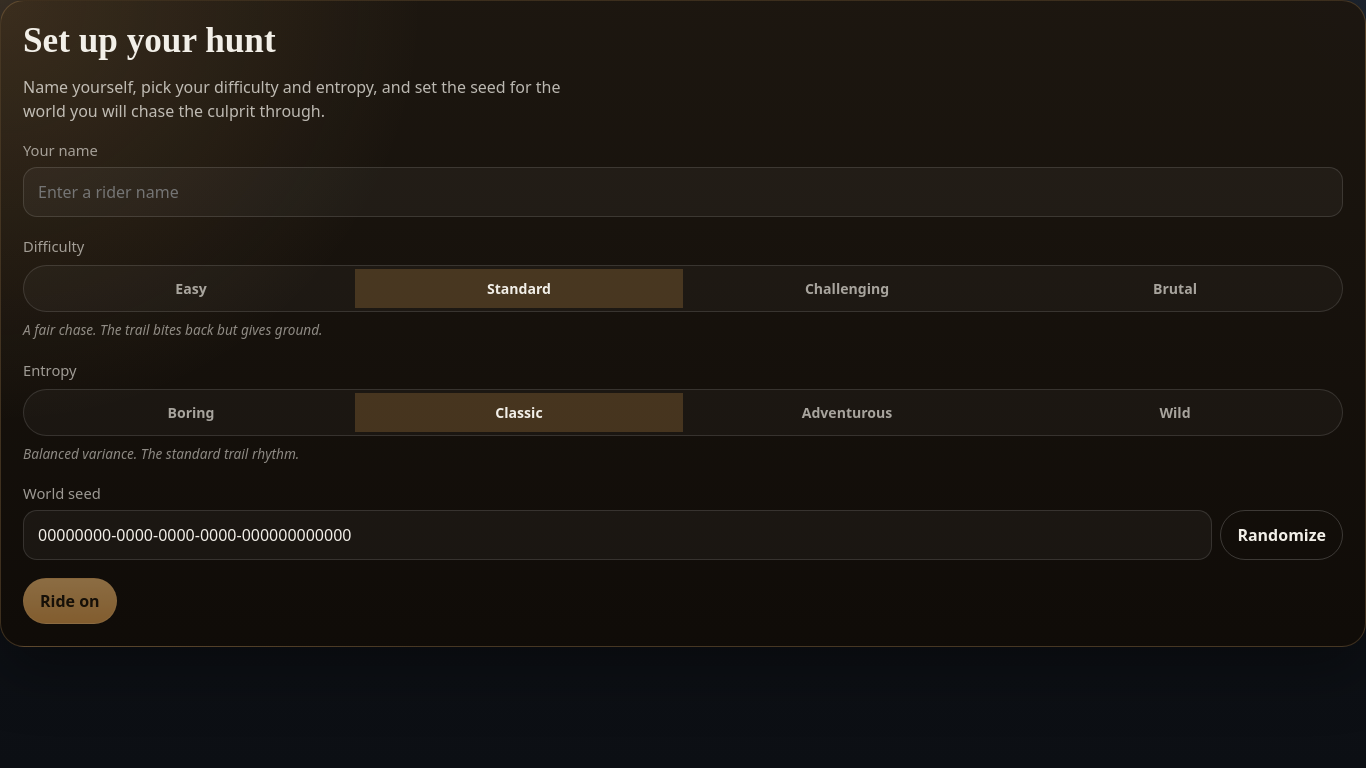
it: SetupHuntStep › shows the validation message when the name is empty after being touched
Expected: the text "tell me what name you go by before we ride on." is not shown
Type "Ranger Vale" into the field labelled "Your name" at (683, 192), box [23,167,1343,217]
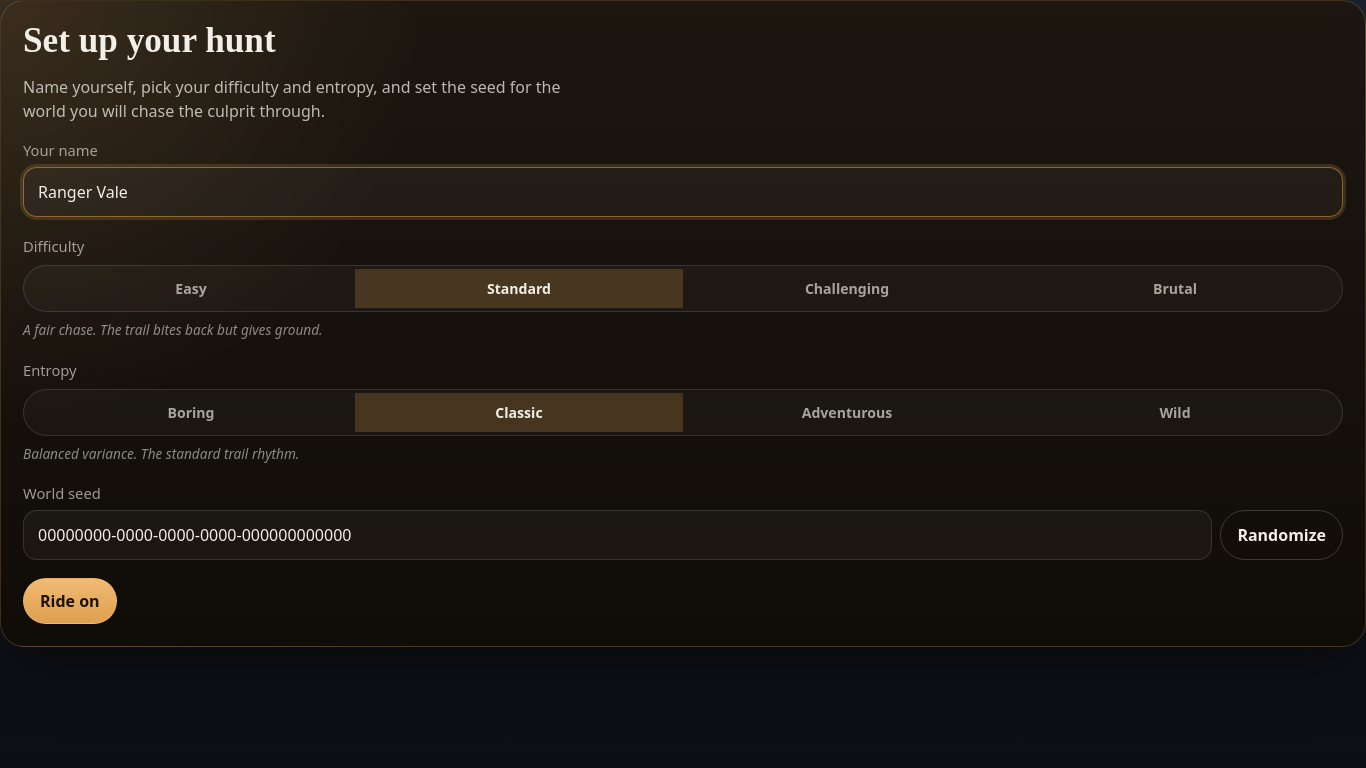
Clear the field labelled "Your name" at (683, 192), box [23,167,1343,217]
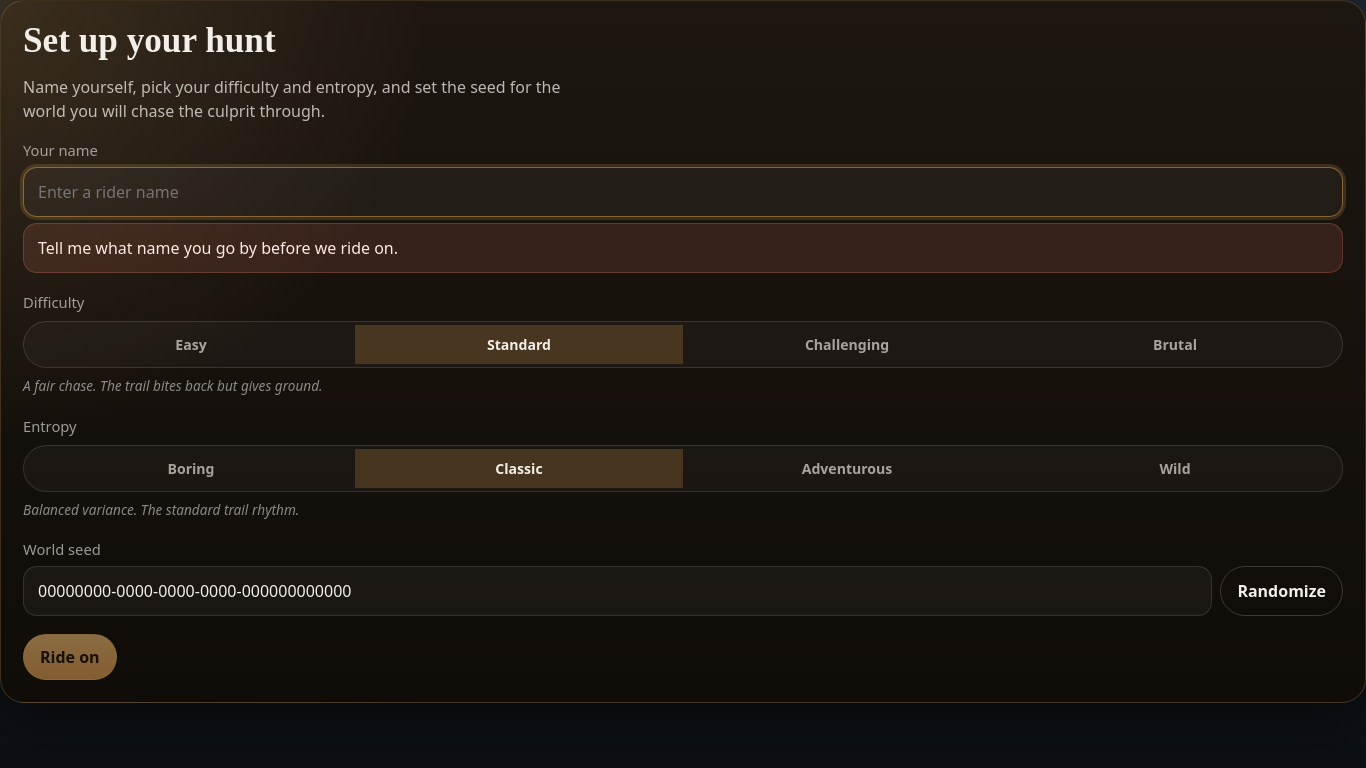
Expected: the text "Tell me what name you go by before we ride on." is shown, [23,223,1343,273]
